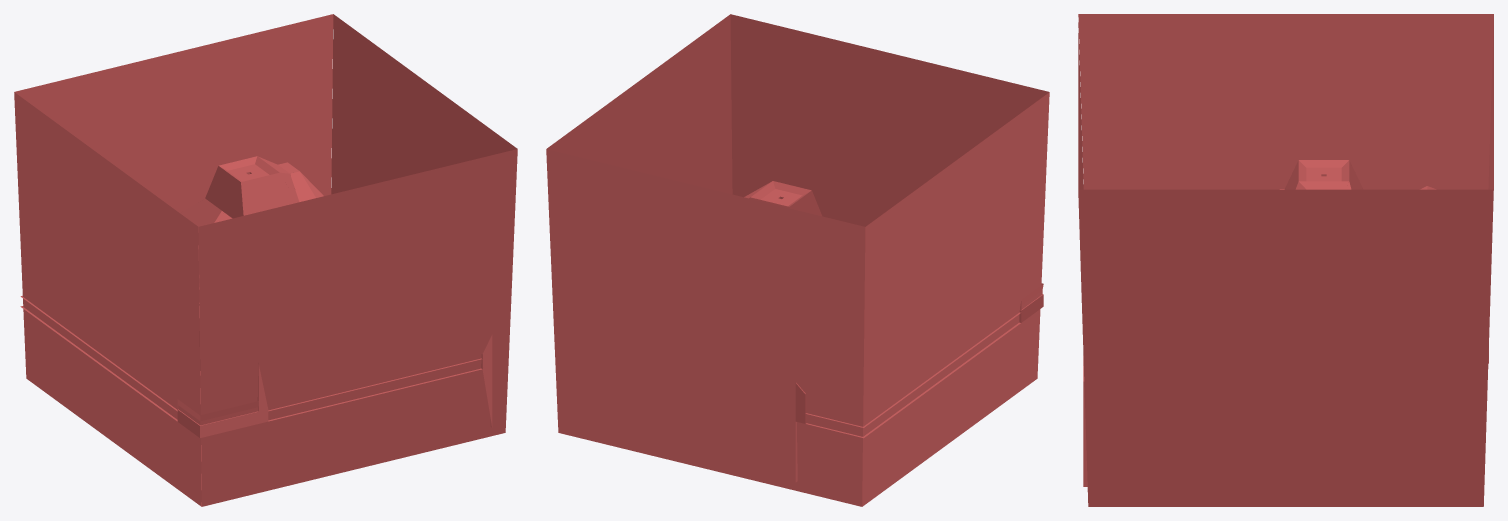
Rendered from tibi_deka_d.glb.
The picture shows the model from 3 angles, left to right: view 1: azimuth 30°, elevation 25°; view 2: azimuth 150°, elevation 25°; view 3: azimuth 270°, elevation 25°; orthographic projection. The views are drawn at different scales.
Parts seen in each view (by area): view 1: tibi_deka_d_col; view 2: tibi_deka_d_col; view 3: tibi_deka_d_col.
Boxes of the visible parts, x1,y1,x2,y2 form: tibi_deka_d_col: (14, 14, 517, 506); tibi_deka_d_col: (546, 14, 1049, 506); tibi_deka_d_col: (1078, 14, 1493, 506).
Bounding box in the file's own units: 16.4 × 14 × 16.4.
